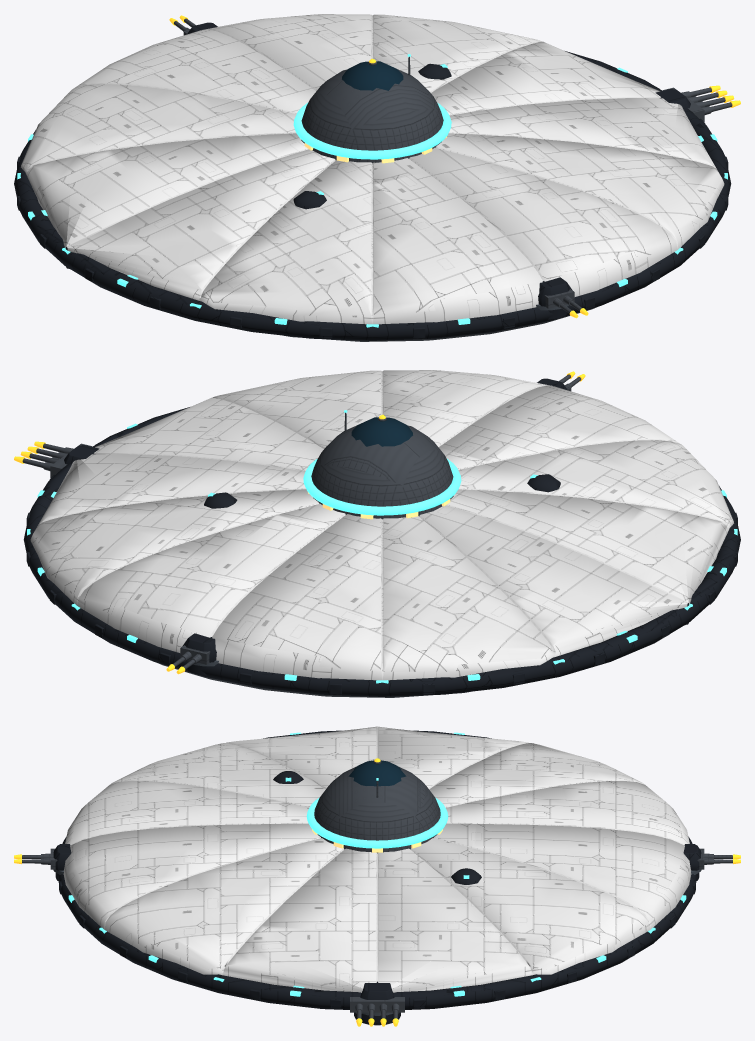
Rendered from saucer_production_v1_lod1.glb.
3 renders of one model, top to bottom at view 1: azimuth 30°, elevation 25°; view 2: azimuth 150°, elevation 25°; view 3: azimuth 270°, elevation 25°, orthographic. The views are drawn at different scales.
Parts seen in each view (by area): view 1: LOD0_MOTION_HULL_CORE_Hull, LOD0_MOTION_HULL_CORE_Armor, LOD0_MOTION_HULL_CORE_Mechanical, LOD0_MOTION_HULL_CORE_MechanicalDark, LOD0_MOTION_HULL_CORE_Lights_Cyan, LOD0_MOTION_HULL_CORE_CANOPY; view 2: LOD0_MOTION_HULL_CORE_Hull, LOD0_MOTION_HULL_CORE_Armor, LOD0_MOTION_HULL_CORE_Mechanical, LOD0_MOTION_HULL_CORE_MechanicalDark, LOD0_MOTION_HULL_CORE_Lights_Cyan, LOD0_MOTION_HULL_CORE_CANOPY; view 3: LOD0_MOTION_HULL_CORE_Hull, LOD0_MOTION_HULL_CORE_Armor, LOD0_MOTION_HULL_CORE_Mechanical, LOD0_MOTION_HULL_CORE_MechanicalDark, LOD0_MOTION_HULL_CORE_Lights_Cyan, LOD0_MOTION_HULL_CORE_CANOPY.
Boxes of the visible parts, x1,y1,x2,y2 form: LOD0_MOTION_HULL_CORE_Hull: (21, 14, 724, 324); LOD0_MOTION_HULL_CORE_Armor: (14, 22, 731, 340); LOD0_MOTION_HULL_CORE_Mechanical: (67, 18, 732, 341); LOD0_MOTION_HULL_CORE_MechanicalDark: (27, 15, 717, 315); LOD0_MOTION_HULL_CORE_Lights_Cyan: (17, 54, 727, 327); LOD0_MOTION_HULL_CORE_CANOPY: (342, 61, 403, 90); LOD0_MOTION_HULL_CORE_Hull: (30, 370, 733, 680); LOD0_MOTION_HULL_CORE_Armor: (23, 378, 740, 696); LOD0_MOTION_HULL_CORE_Mechanical: (22, 374, 687, 697); LOD0_MOTION_HULL_CORE_MechanicalDark: (37, 371, 727, 671); LOD0_MOTION_HULL_CORE_Lights_Cyan: (27, 410, 737, 683); LOD0_MOTION_HULL_CORE_CANOPY: (351, 417, 412, 446); LOD0_MOTION_HULL_CORE_Hull: (63, 726, 691, 992); LOD0_MOTION_HULL_CORE_Armor: (53, 730, 701, 1025); LOD0_MOTION_HULL_CORE_Mechanical: (22, 766, 732, 1018); LOD0_MOTION_HULL_CORE_MechanicalDark: (70, 726, 684, 982); LOD0_MOTION_HULL_CORE_Lights_Cyan: (68, 732, 686, 996); LOD0_MOTION_HULL_CORE_CANOPY: (348, 760, 406, 786).
Size of what is drawn, in the model's own units: 20.96 by 7.56 by 22.06.
Materials: 12 (5 with a texture image).
